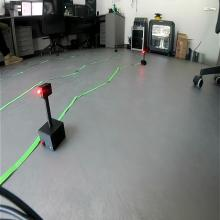red: (36, 82, 52, 100)
